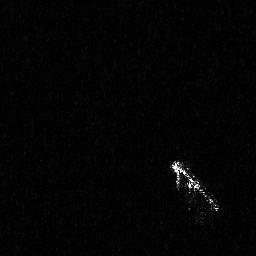ship: (167, 158, 220, 227)
